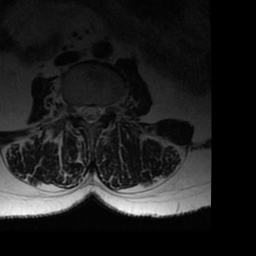CCS_normal: (87, 99, 94, 128)
LFS_normal: (103, 98, 111, 119)
LLS_normal: (95, 101, 103, 122)
RFS_normal: (71, 99, 79, 119)
RLS_normal: (79, 100, 87, 124)
